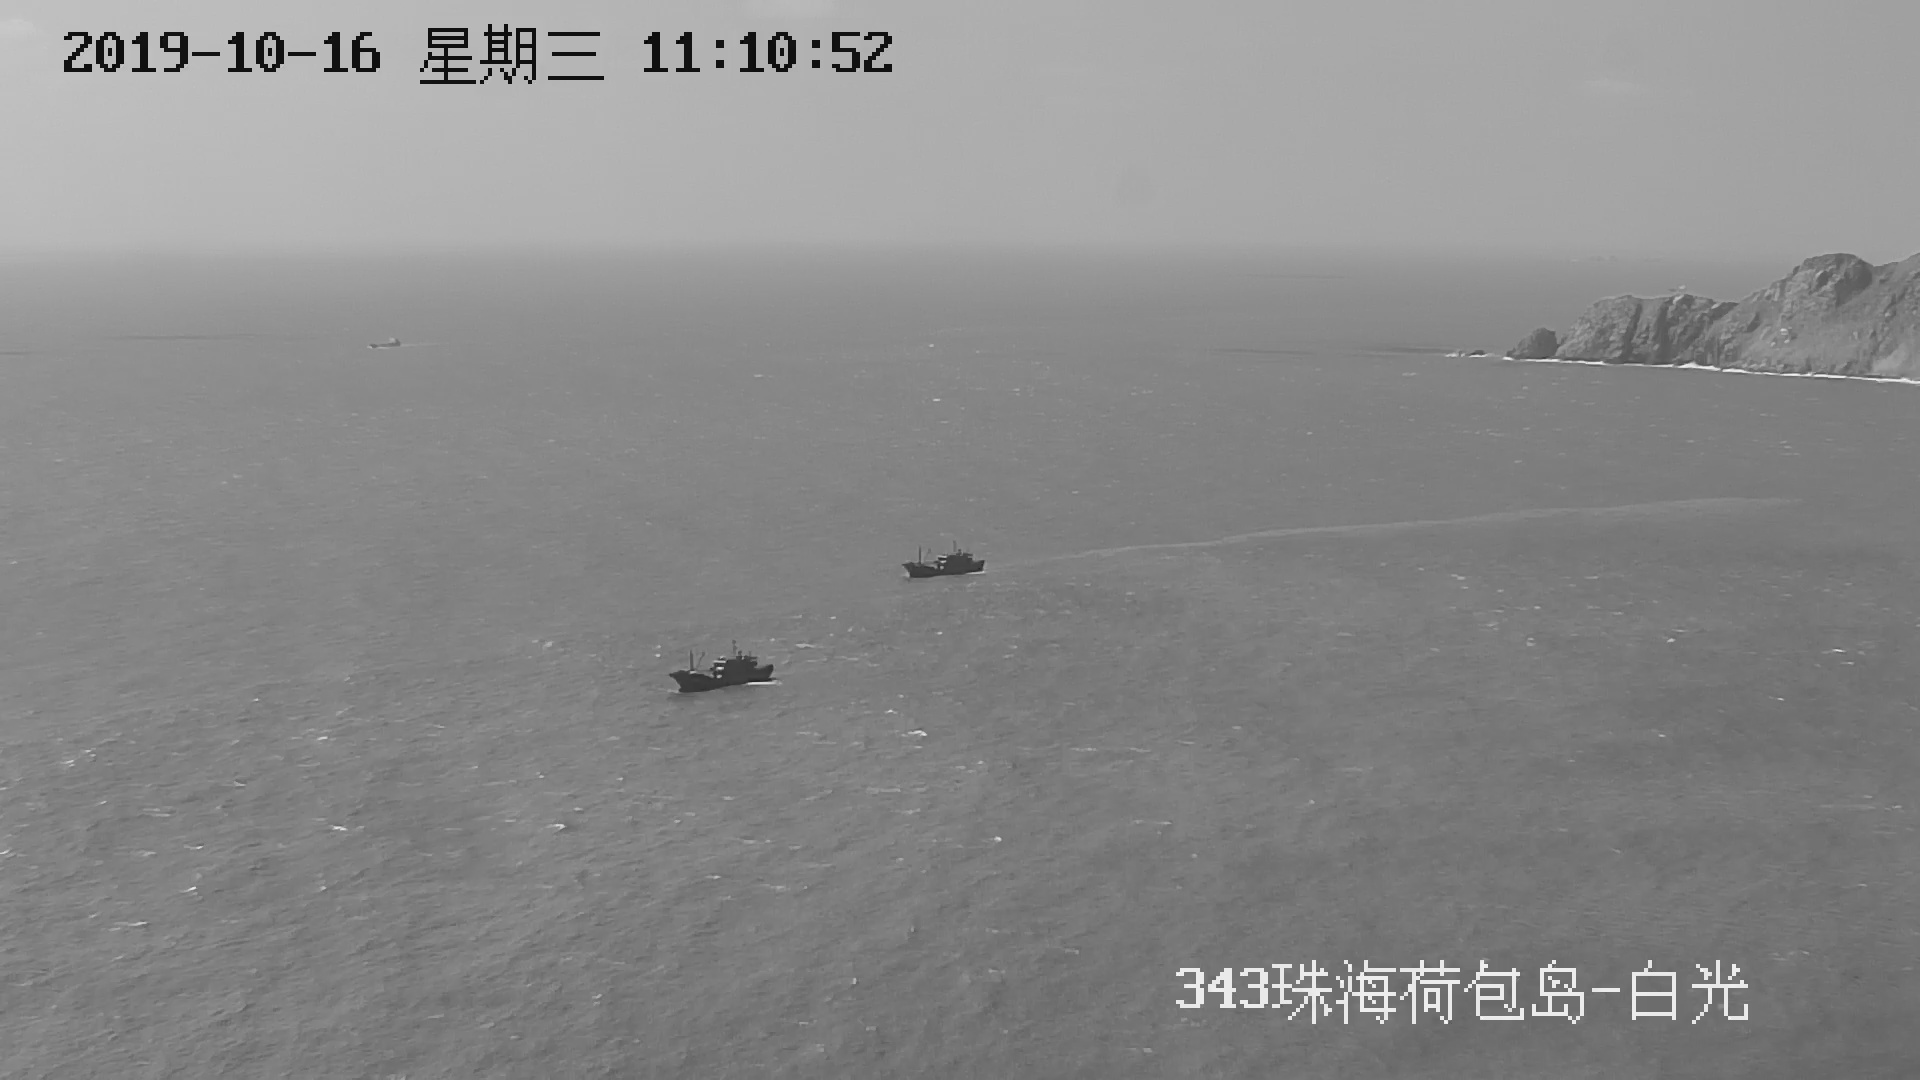ship: (669, 644, 778, 694), (902, 542, 986, 579)
